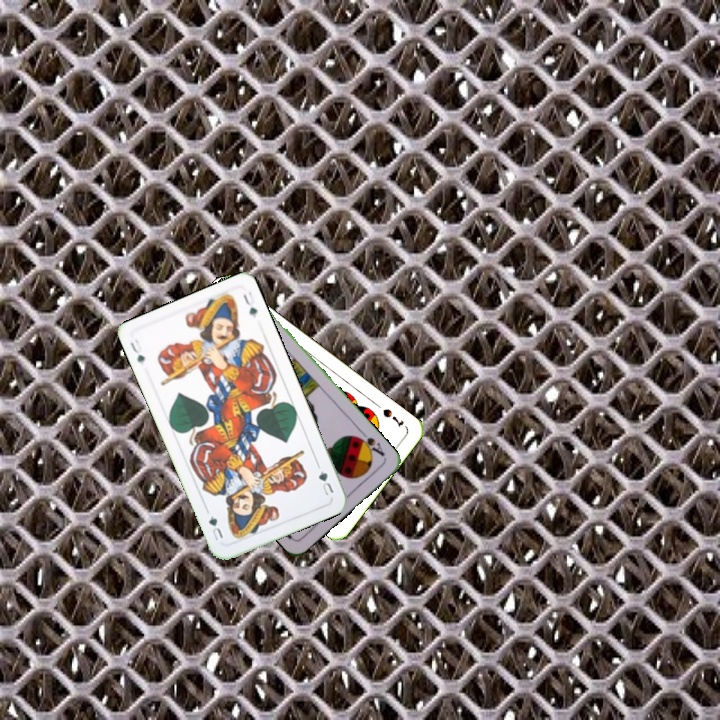GU: (313, 461, 336, 498), (126, 335, 148, 366)
S7: (379, 404, 406, 430)
SA: (352, 427, 388, 459)
